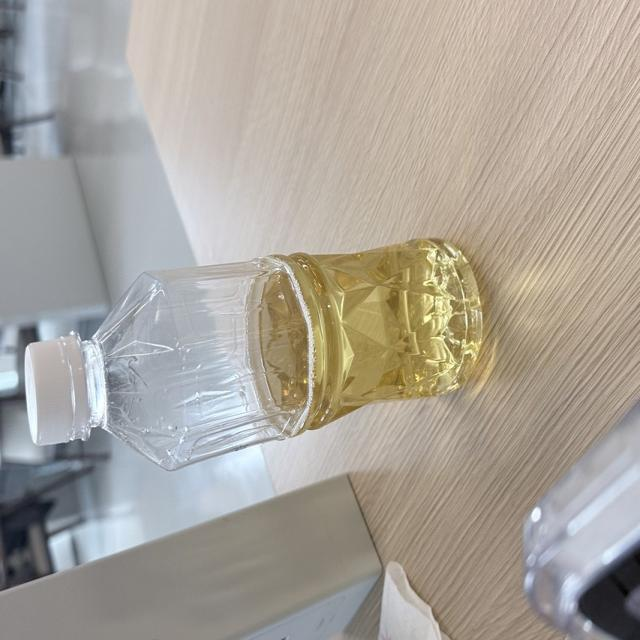medium: (26, 240, 481, 470)
